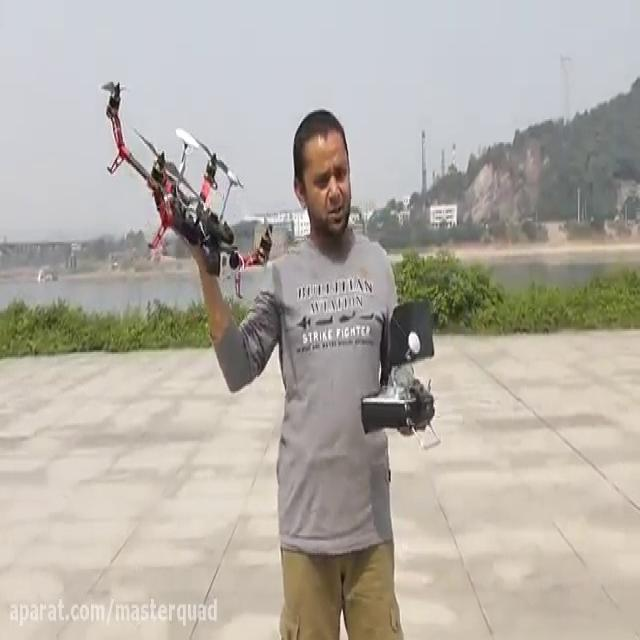drone: (98, 74, 275, 298)
